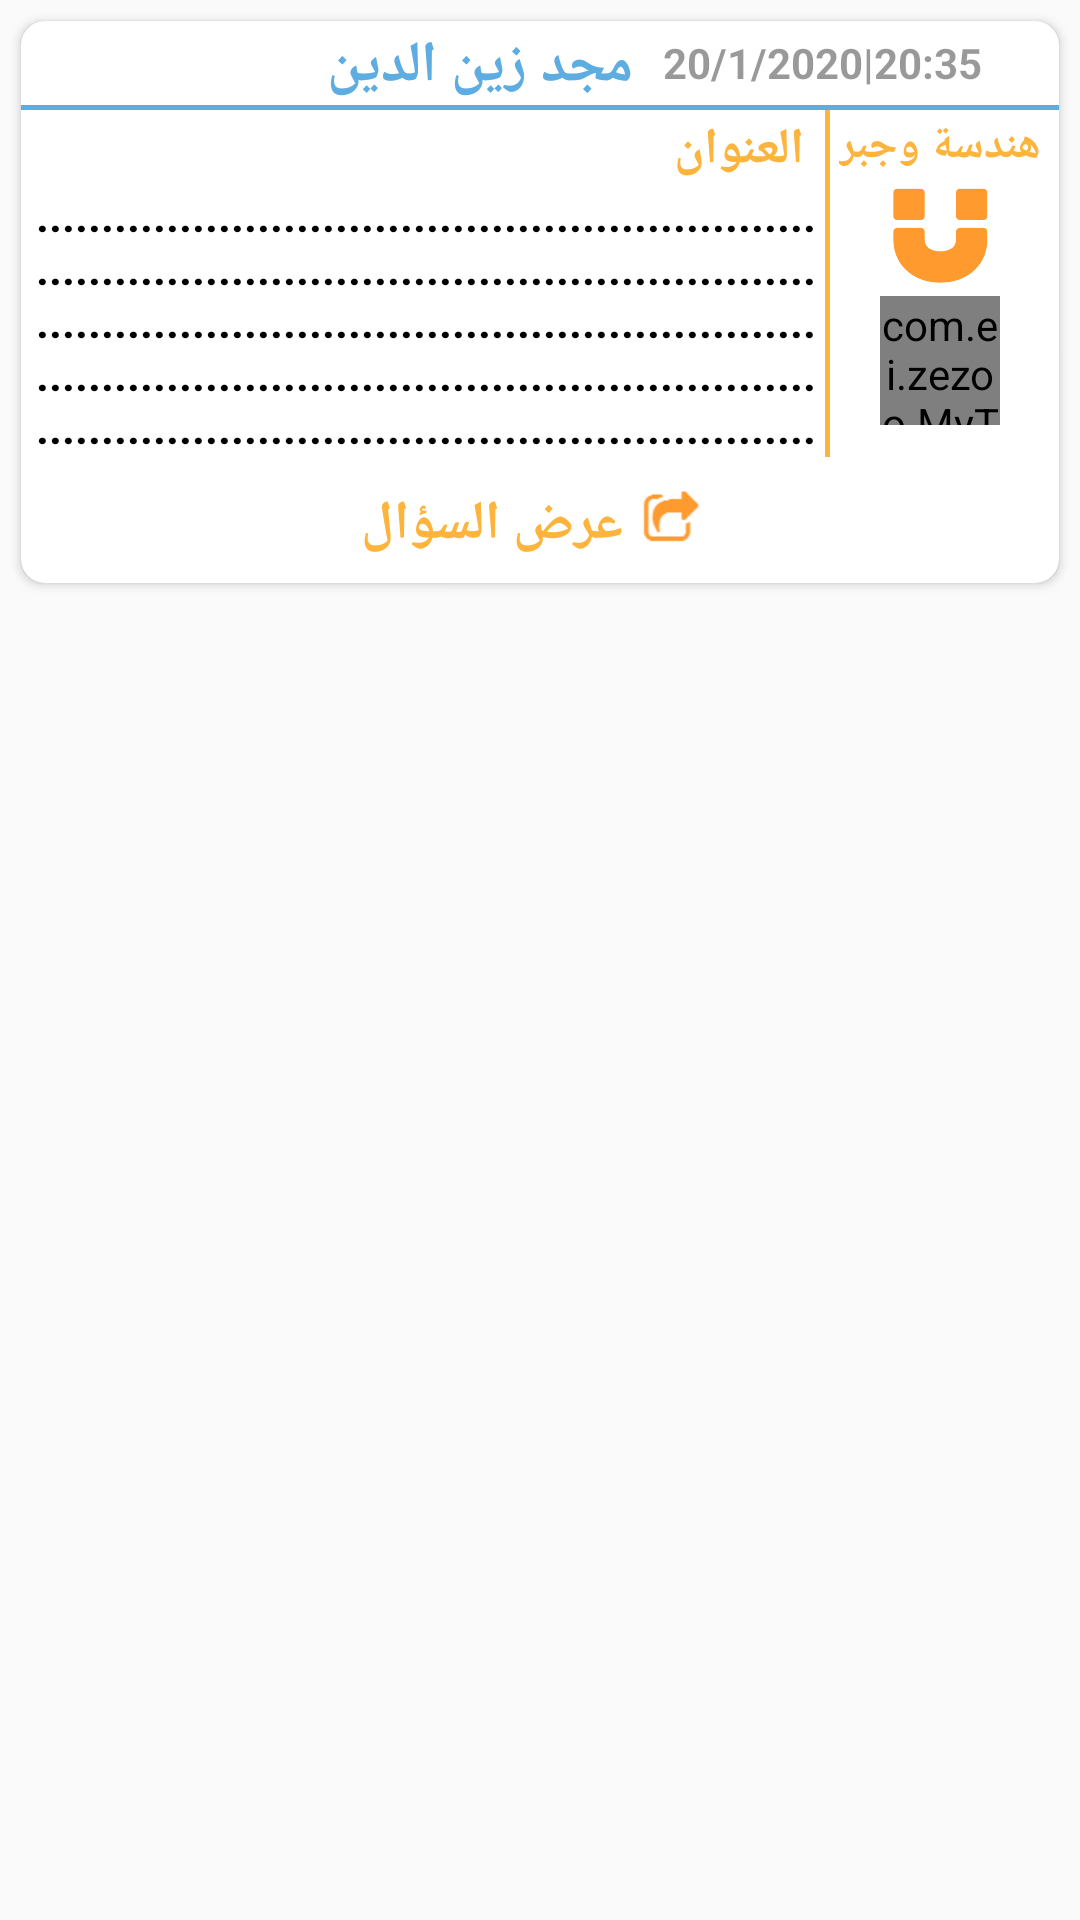

Locate icon controls on the screen. Image size 1080x1920, boxes as (x1, y1, x2, y2).
physics: (893, 188, 988, 283)
